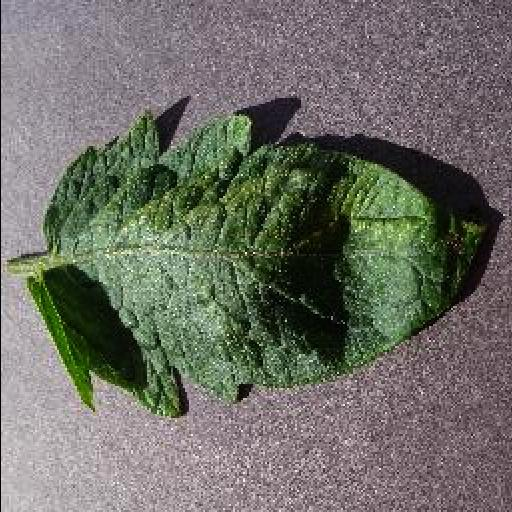disease_tomato: (24, 111, 492, 421)
